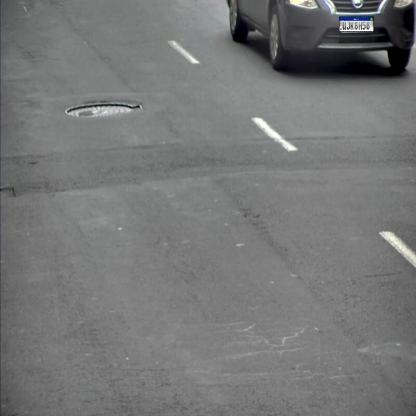PlacaM: (339, 17, 374, 32)
